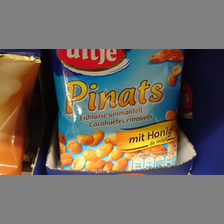nuts: (51, 49, 185, 172)
